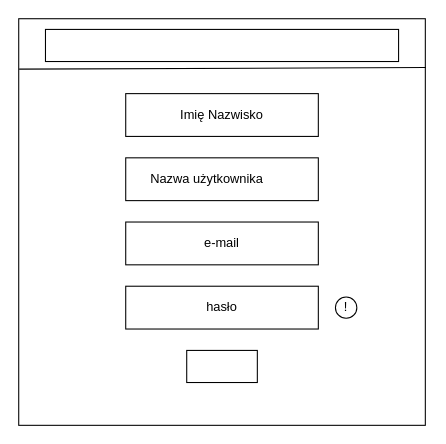
Some shapes in this 446 by 444 pixel diagram are drawn without their labels. Each missing label, with the box of its shape:
Dokończ rejestracje: (186, 349, 257, 383)
Logo: (44, 28, 399, 62)
